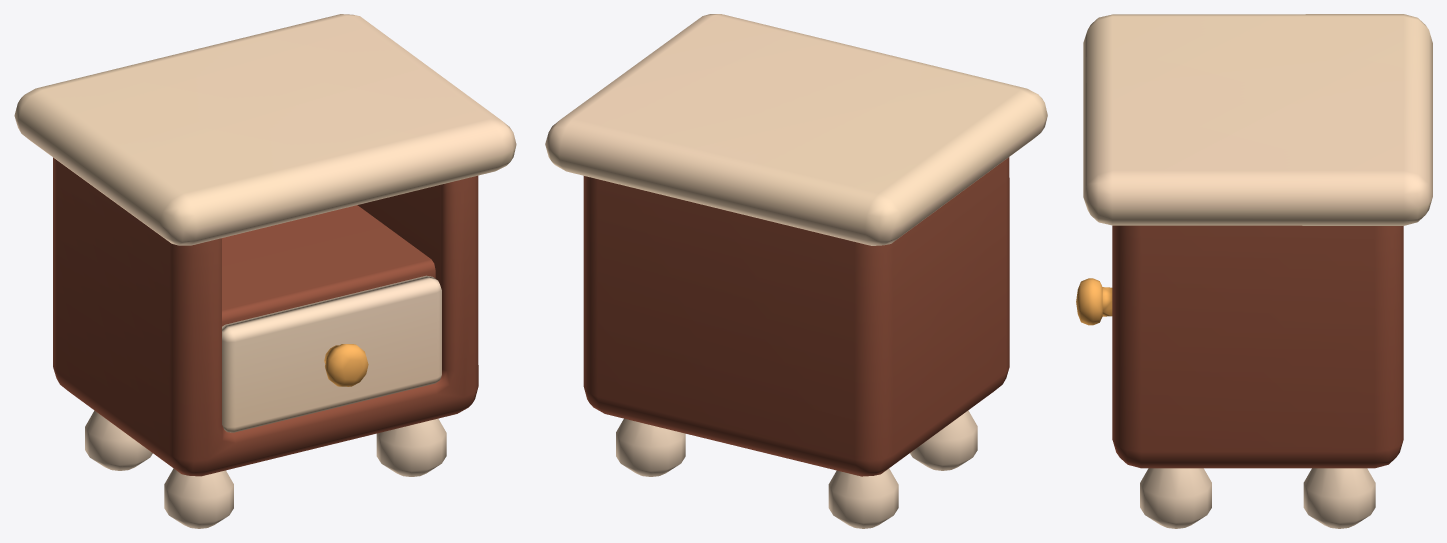
File: Nightstand_001.fbx
3 views of the same model, side by side, from view 1: azimuth 30°, elevation 25°; view 2: azimuth 150°, elevation 25°; view 3: azimuth 270°, elevation 25° (orthographic). The views are drawn at different scales.
Visible parts, largest first — view 1: Nightstand_001; view 2: Nightstand_001; view 3: Nightstand_001.
Part boxes in pixels (x1,y1,x2,y2): Nightstand_001: (14,14,516,528); Nightstand_001: (545,14,1047,528); Nightstand_001: (1076,14,1432,528).
Bounding box in the file's own units: 0.58 × 0.5737 × 0.4898.
